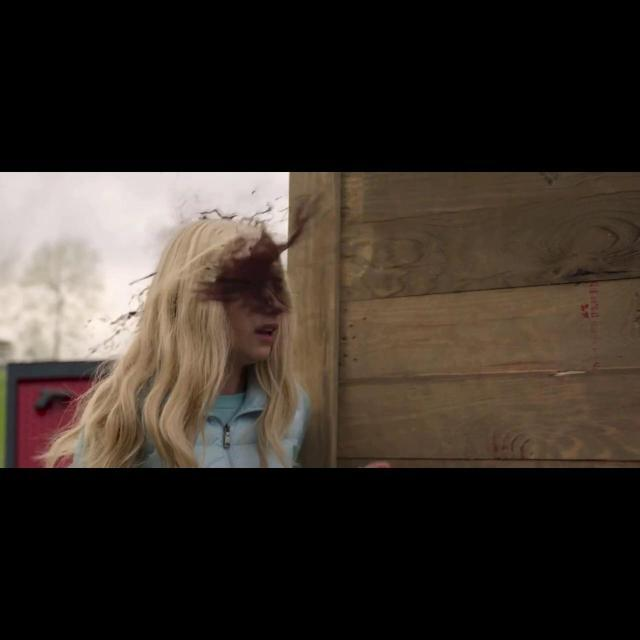blood: (200, 202, 310, 314), (102, 270, 156, 346), (199, 208, 238, 220)
